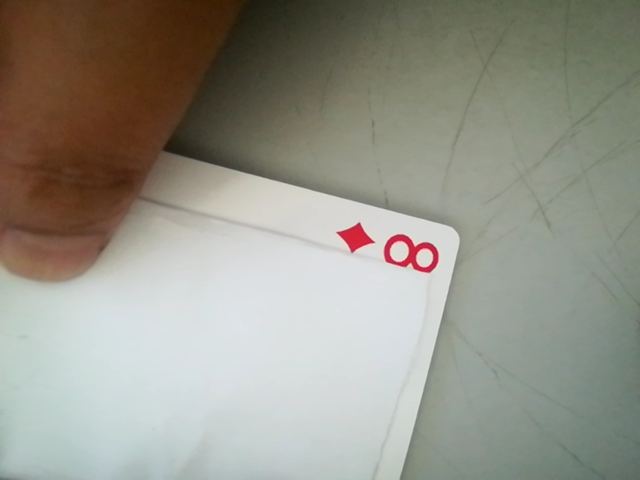fk 8: (348, 221, 449, 276)
